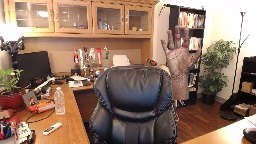Mano_aperta: (157, 24, 202, 76)
